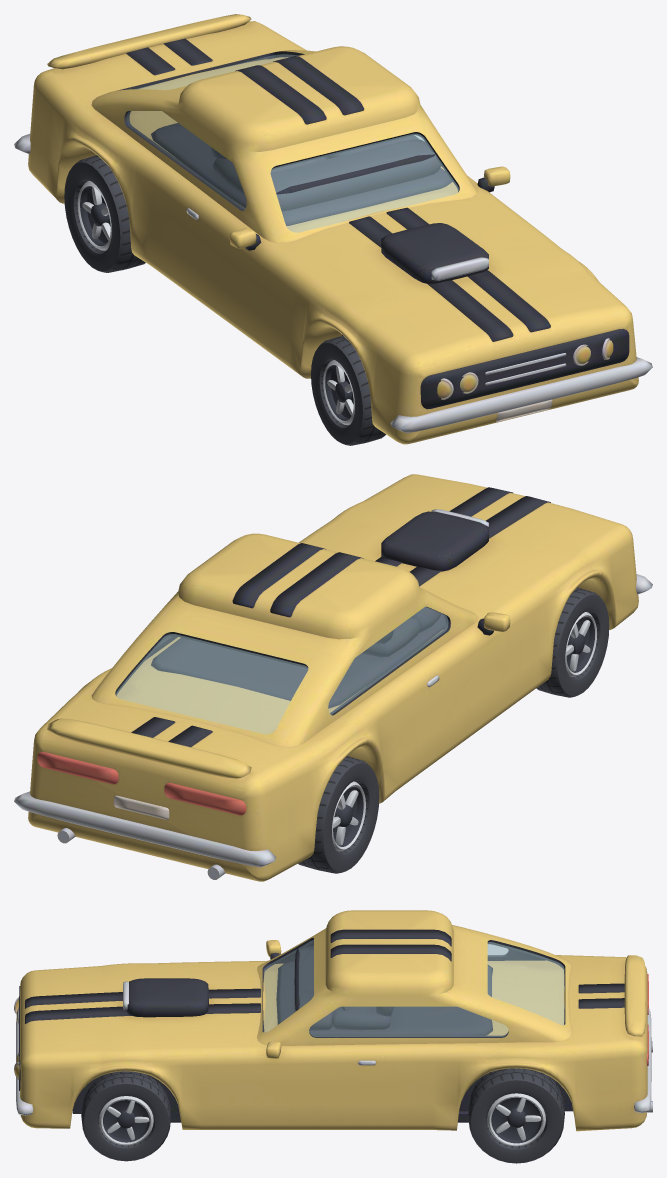
The model's file is muscle-car.glb.
The picture shows the model from 3 angles, top to bottom: view 1: azimuth 30°, elevation 25°; view 2: azimuth 150°, elevation 25°; view 3: azimuth 270°, elevation 25°; orthographic projection. The views are drawn at different scales.
Parts seen in each view (by area): view 1: muscle-car_body, muscle-car_windows, muscle-car_wheel_rr, muscle-car_wheel_fr; view 2: muscle-car_body, muscle-car_windows, muscle-car_wheel_rr, muscle-car_wheel_fr; view 3: muscle-car_body, muscle-car_windows, muscle-car_wheel_rl, muscle-car_wheel_fl.
Part boxes in pixels (box(x1,y1,x2,y2)): muscle-car_body: box(14, 14, 652, 444); muscle-car_windows: box(127, 54, 458, 232); muscle-car_wheel_rr: box(64, 155, 145, 272); muscle-car_wheel_fr: box(311, 336, 385, 445); muscle-car_body: box(14, 474, 652, 881); muscle-car_windows: box(116, 607, 448, 733); muscle-car_wheel_rr: box(298, 756, 379, 873); muscle-car_wheel_fr: box(536, 587, 609, 697); muscle-car_body: box(14, 910, 652, 1131); muscle-car_windows: box(264, 940, 564, 1036); muscle-car_wheel_rl: box(468, 1068, 564, 1163); muscle-car_wheel_fl: box(81, 1071, 171, 1161).
Bounding box in the file's own units: 1.92 × 1.4 × 4.68.
Materials: 18 (5 with a texture image).
